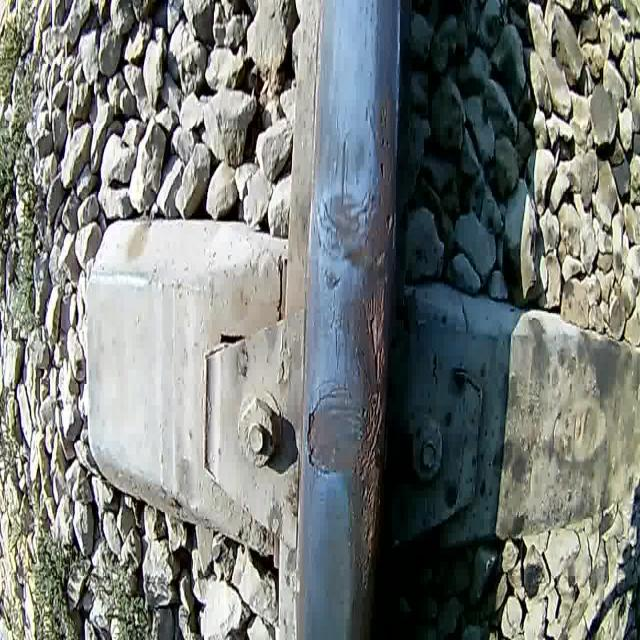Cracks: (304, 391, 331, 476)
Spallings: (354, 274, 390, 597)
Squats: (361, 85, 402, 280), (314, 180, 377, 298), (304, 378, 366, 482)
